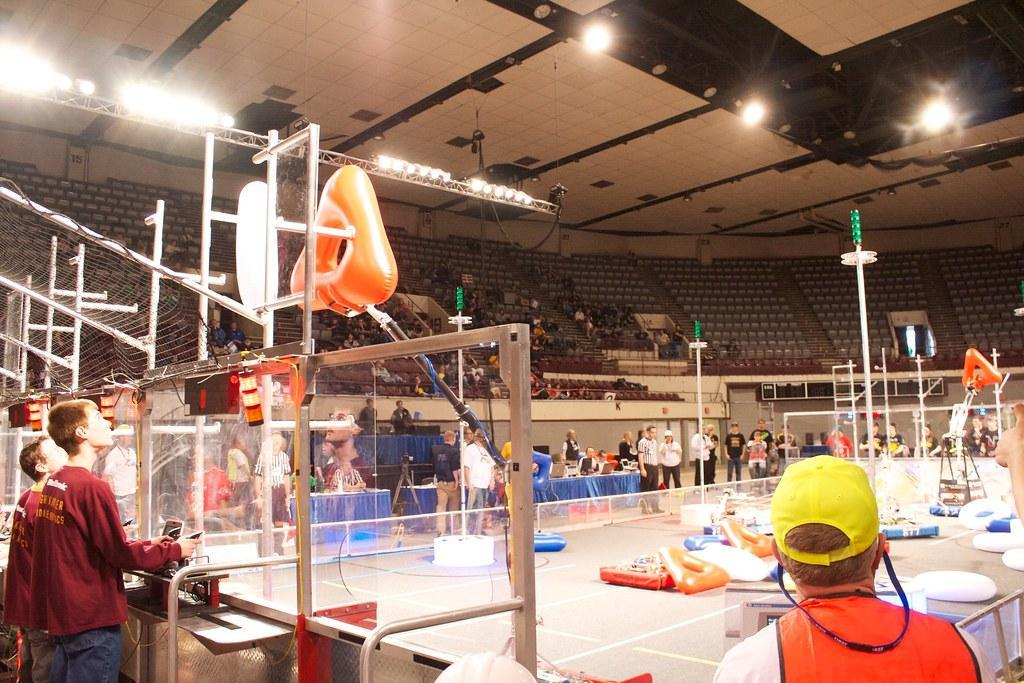robot: (927, 342, 1010, 521), (593, 546, 687, 595), (869, 489, 942, 547)
